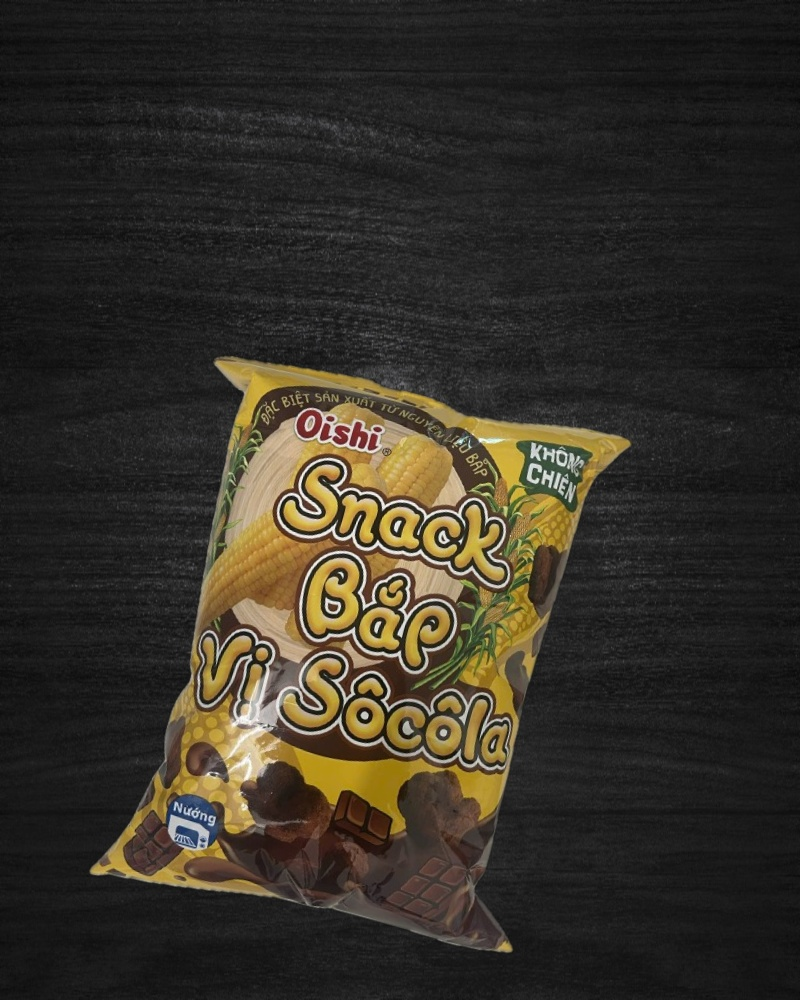Snack socola: (82, 334, 648, 974)
